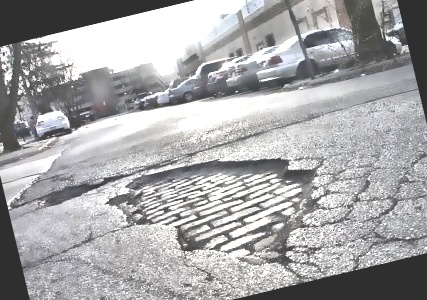pothole: (104, 131, 344, 300), (35, 178, 102, 210)
